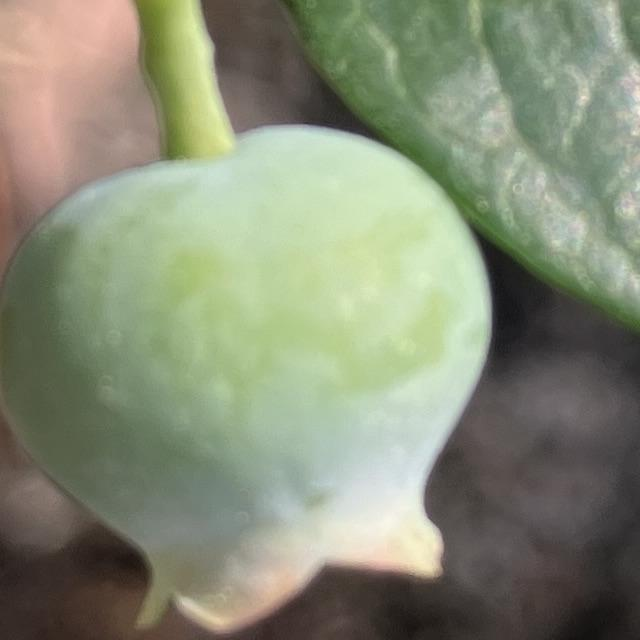Blueberries: (0, 94, 514, 640)
